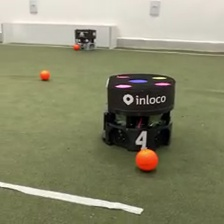ball: (133, 146, 161, 173), (39, 68, 51, 81), (73, 42, 80, 50)
goal: (1, 21, 118, 50)
robot: (99, 71, 178, 155), (72, 27, 97, 52)
